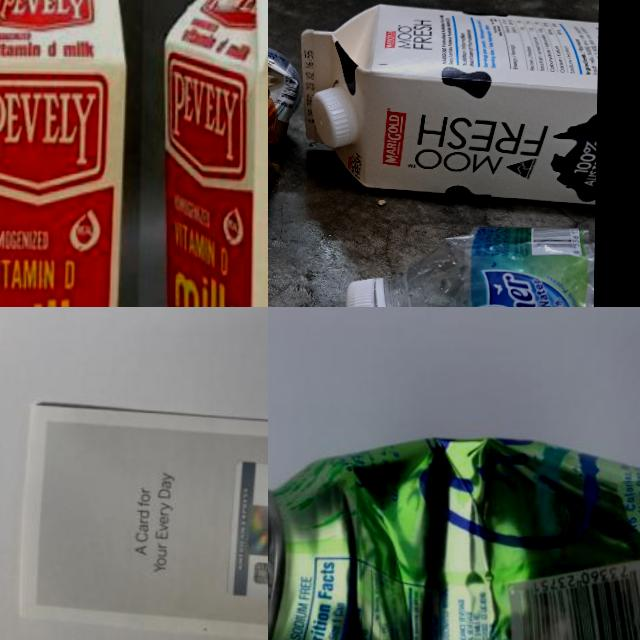caixinha: (298, 4, 598, 205), (0, 0, 129, 307), (152, 0, 268, 307)
lata: (268, 429, 640, 640), (268, 40, 303, 237)
papel: (16, 399, 268, 640)
tampa plástica: (386, 224, 594, 307), (310, 88, 353, 148), (346, 278, 386, 307)
